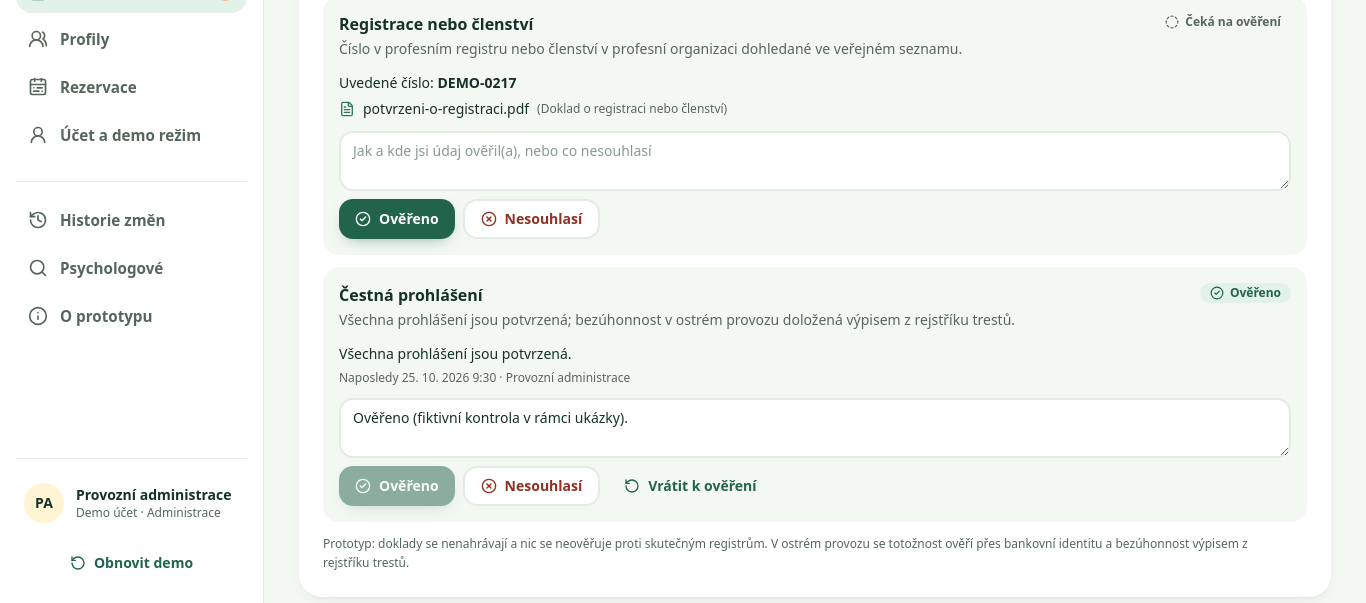
průchody aplikací › žadatel nevidí správu termínů, po schválení administrací ano
The image size is (1366, 603).
Later steps or results of the test are not shown.
(page scrolled)
Click the button "Ověřeno" below "Registrace nebo členství": (397, 219) [339, 199, 455, 239]
(page scrolled)
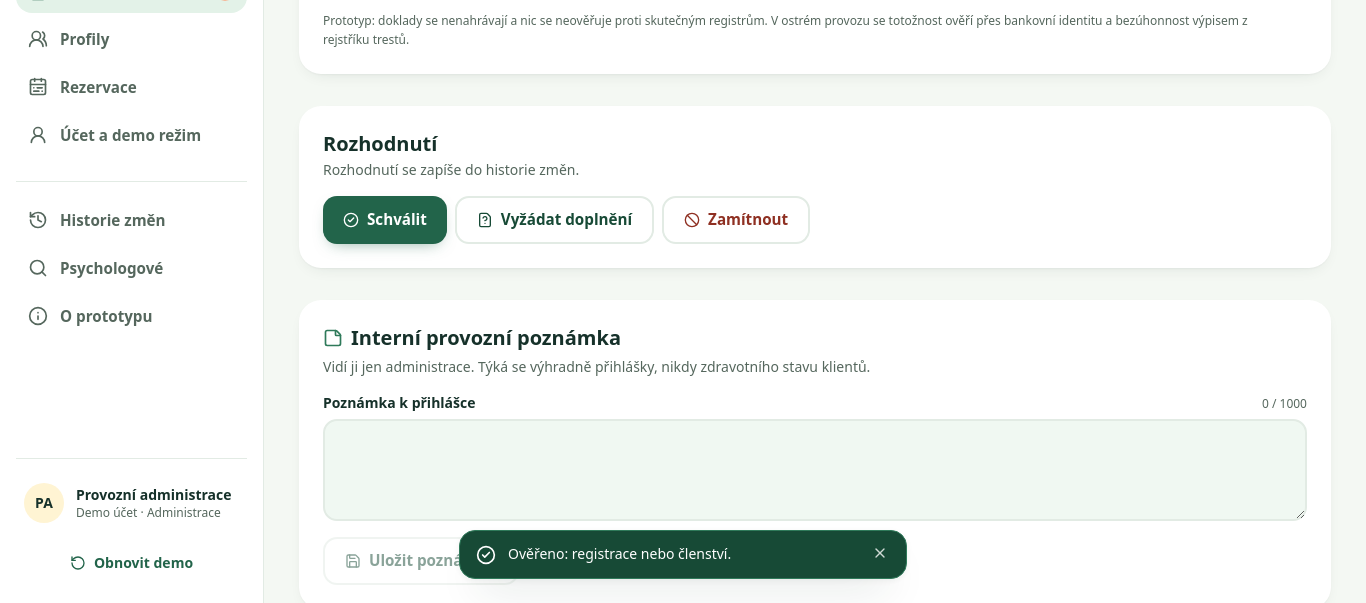
Expected: the button "Schválit" is enabled, [323, 196, 447, 244]
